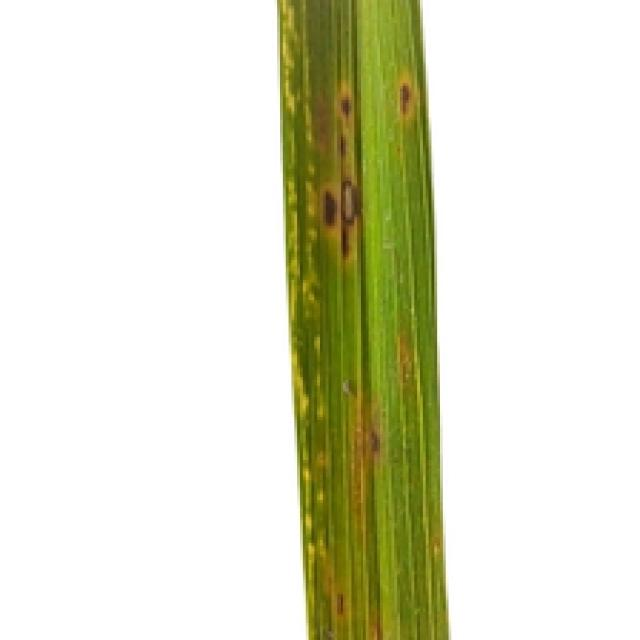Rice___Rice_Blast: (275, 0, 454, 637)
